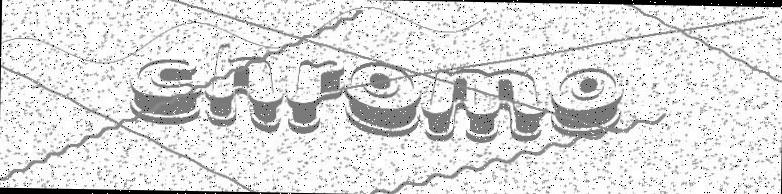c: (127, 56, 201, 124)
h: (206, 40, 284, 132)
m: (424, 64, 547, 145)
o: (547, 61, 625, 140), (347, 58, 424, 136)
r: (287, 52, 347, 136)
